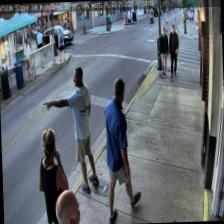person: (103, 76, 142, 222), (65, 65, 98, 191), (35, 126, 67, 224), (54, 187, 80, 224), (168, 24, 180, 80), (158, 26, 168, 76)
